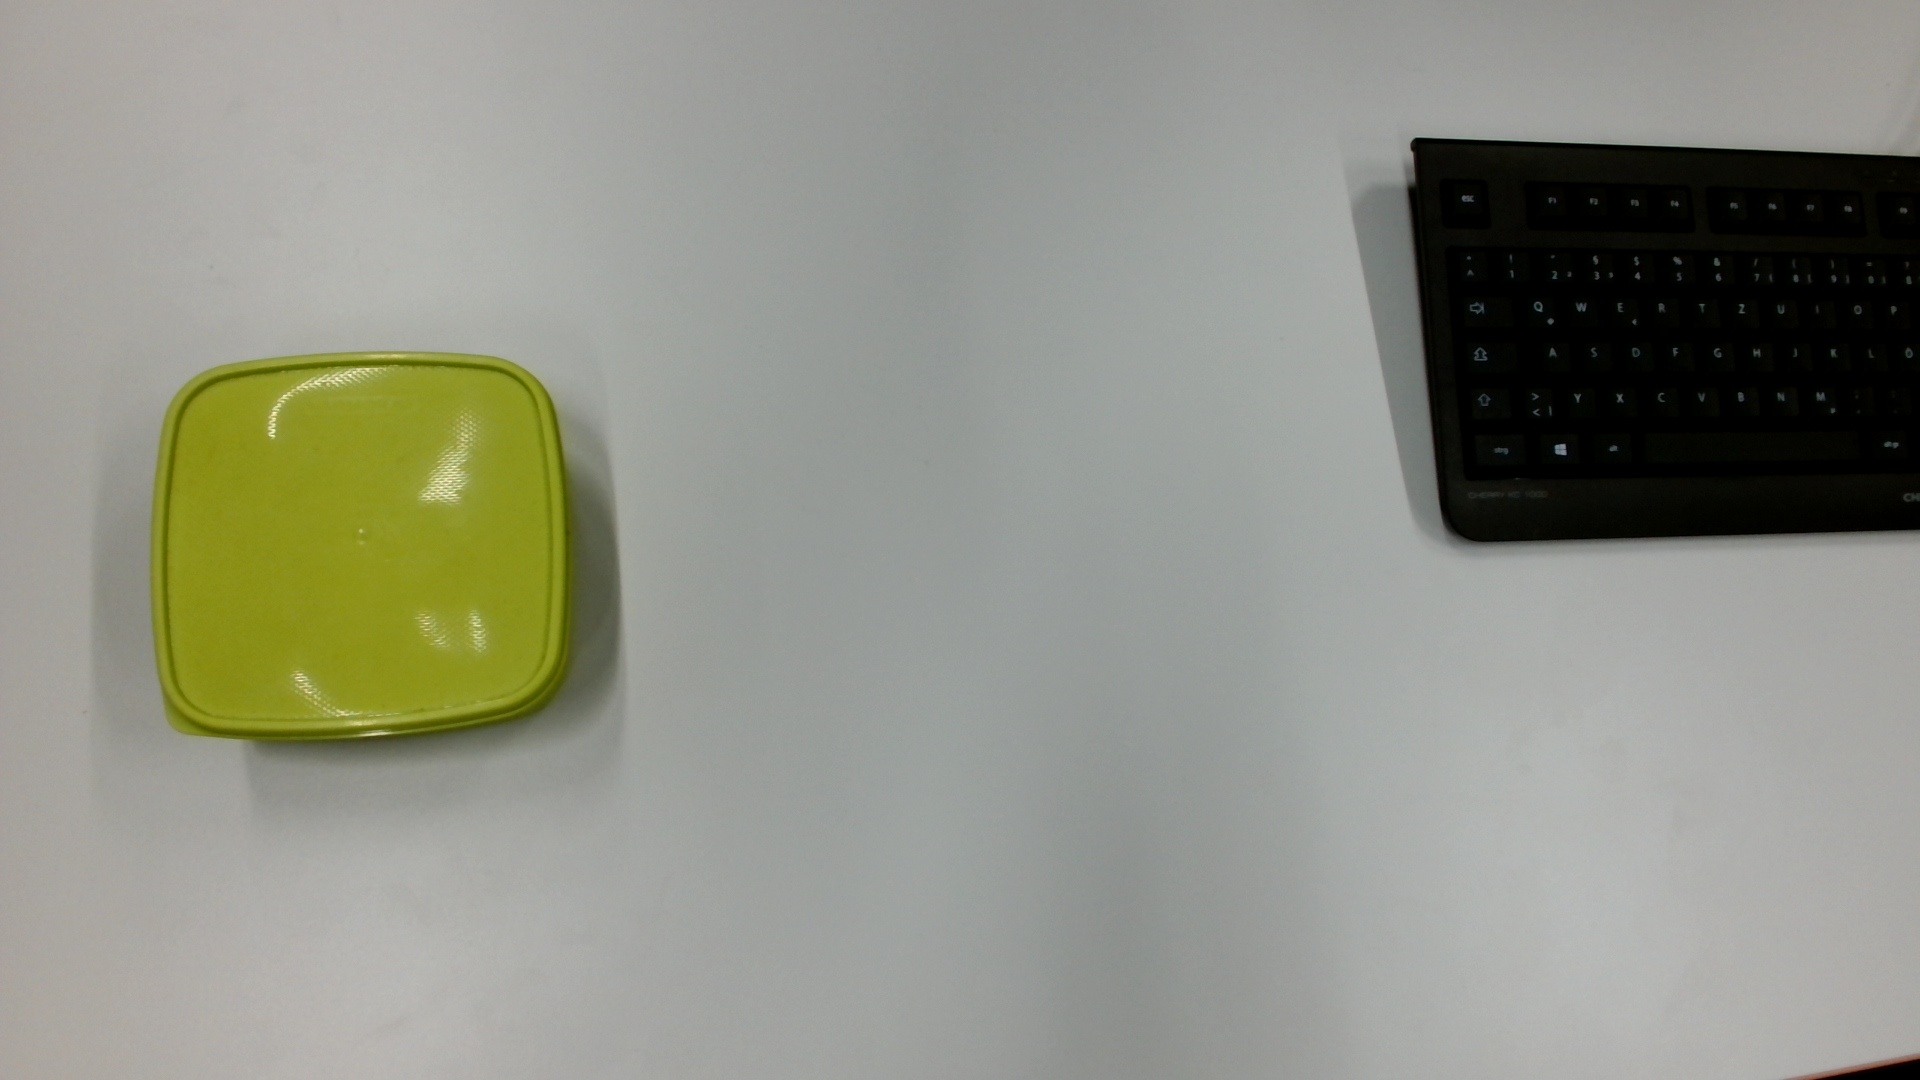Box: (141, 344, 592, 752)
